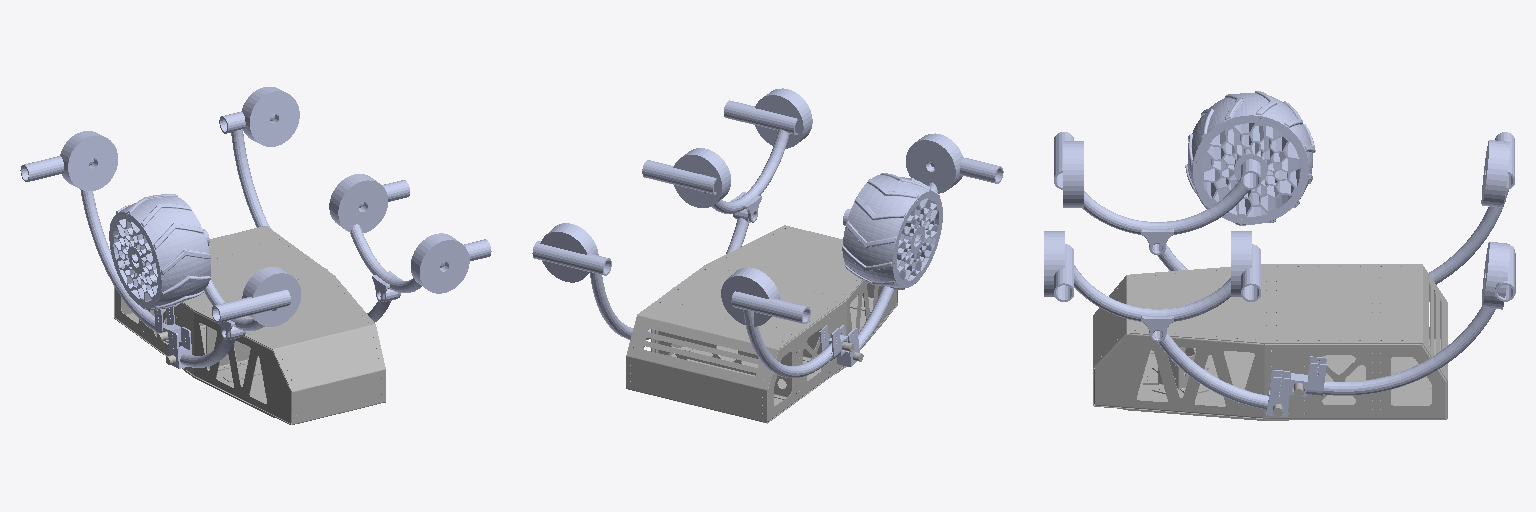
The robot description file, URDF, robot "drive":
<?xml version="1.0" encoding="utf-8"?>
<!-- This URDF was automatically created by SolidWorks to URDF Exporter! Originally created by [author] ([email redacted]) 
     Commit Version: 1.6.0-1-g15f4949  Build Version: 1.6.7594.29634
     For more information, please see http://wiki.ros.org/sw_urdf_exporter -->
<robot
  name="drive">
  <link
    name="base">
    <inertial>
      <origin
        xyz="-0.345788930637997 -0.153460943930369 -0.0148574304076997"
        rpy="0 0 0" />
      <mass
        value="34.1059688345868" />
      <inertia
        ixx="2.15746797612818"
        ixy="0.00470920534979304"
        ixz="-1.71459033522724E-06"
        iyy="0.759382756881473"
        iyz="0.00265969830513678"
        izz="2.53264735973746" />
    </inertial>
    <visual>
      <origin
        xyz="0 0 0"
        rpy="0 0 0" />
      <geometry>
        <mesh
          filename="package://drive/meshes/base.STL" />
      </geometry>
      <material
        name="">
        <color
          rgba="0.752941176470588 0.752941176470588 0.752941176470588 1" />
      </material>
    </visual>
    <collision>
      <origin
        xyz="0 0 0"
        rpy="0 0 0" />
      <geometry>
        <mesh
          filename="package://drive/meshes/base.STL" />
      </geometry>
    </collision>
  </link>
  <link
    name="right_front">
    <inertial>
      <origin
        xyz="-0.12375 -0.053132 0.0225"
        rpy="0 0 0" />
      <mass
        value="0.26897" />
      <inertia
        ixx="0.001013"
        ixy="-0.0017699"
        ixz="2.1696E-09"
        iyy="0.0042352"
        iyz="1.083E-09"
        izz="0.0051616" />
    </inertial>
    <visual>
      <origin
        xyz="0 0 0"
        rpy="0 0 0" />
      <geometry>
        <mesh
          filename="package://drive/meshes/right_front.STL" />
      </geometry>
      <material
        name="">
        <color
          rgba="0.79216 0.81961 0.93333 1" />
      </material>
    </visual>
    <collision>
      <origin
        xyz="0 0 0"
        rpy="0 0 0" />
      <geometry>
        <mesh
          filename="package://drive/meshes/right_front.STL" />
      </geometry>
    </collision>
  </link>
  <joint
    name="joint_right_front"
    type="revolute">
    <origin
      xyz="-0.070337 -0.15542 -0.062427"
      rpy="-1.5708 0.12123 1.5708" />
    <parent
      link="base" />
    <child
      link="right_front" />
    <axis
      xyz="0 0 1" />
    <limit
      effort="10"
      velocity="0"
      lower="-1.0"
      upper="1.0" />
  </joint>
  <link
    name="right_bogie">
    <inertial>
      <origin
        xyz="-4.0066E-06 -0.13053 0.016329"
        rpy="0 0 0" />
      <mass
        value="0.59393" />
      <inertia
        ixx="0.0020082"
        ixy="2.9932E-07"
        ixz="-1.3098E-08"
        iyy="0.0053136"
        iyz="3.3927E-09"
        izz="0.0045241" />
    </inertial>
    <visual>
      <origin
        xyz="0 0 0"
        rpy="0 0 0" />
      <geometry>
        <mesh
          filename="package://drive/meshes/right_bogie.STL" />
      </geometry>
      <material
        name="">
        <color
          rgba="0.79216 0.81961 0.93333 1" />
      </material>
    </visual>
    <collision>
      <origin
        xyz="0 0 0"
        rpy="0 0 0" />
      <geometry>
        <mesh
          filename="package://drive/meshes/right_bogie.STL" />
      </geometry>
    </collision>
  </link>
  <joint
    name="joint_right_bogie"
    type="revolute">
    <origin
      xyz="-0.31109 -0.16078 0"
      rpy="-3.1416 0 3.0204" />
    <parent
      link="right_front" />
    <child
      link="right_bogie" />
    <axis
      xyz="0 0 1" />
    <limit
      effort="10"
      velocity="0"
      lower="-3.14159"
      upper="3.14159"/>
  </joint>
  <link
    name="wheel_1">
    <inertial>
      <origin
        xyz="-0.08218 0.0011573 0.007099"
        rpy="0 0 0" />
      <mass
        value="32.802" />
      <inertia
        ixx="0.60349"
        ixy="-0.0034113"
        ixz="-0.020925"
        iyy="0.36113"
        iyz="0.00029621"
        izz="0.3629" />
    </inertial>
    <visual>
      <origin
        xyz="0 0 0"
        rpy="0 0 0" />
      <geometry>
        <mesh
          filename="package://drive/meshes/wheel_1.STL" />
      </geometry>
      <material
        name="">
        <color
          rgba="0.79216 0.81961 0.93333 1" />
      </material>
    </visual>
    <collision>
      <origin
        xyz="0 0 0"
        rpy="0 0 0" />
      <geometry>
        <mesh
          filename="package://drive/meshes/wheel_1.STL" />
      </geometry>
    </collision>
  </link>
  <joint
    name="joint_wheel_1"
    type="continuous">
    <origin
      xyz="0.225 -0.18509 0"
      rpy="-1.5707 1.5707 0" />
    <parent
      link="right_bogie" />
    <child
      link="wheel_1" />
    <axis
      xyz="1 0 0" />
  </joint>
  <link
    name="wheel_2">
    <inertial>
      <origin
        xyz="-0.08218 0.0011573 0.007099"
        rpy="0 0 0" />
      <mass
        value="32.802" />
      <inertia
        ixx="0.60349"
        ixy="-0.0034113"
        ixz="-0.020925"
        iyy="0.36113"
        iyz="0.00029621"
        izz="0.3629" />
    </inertial>
    <visual>
      <origin
        xyz="0 0 0"
        rpy="0 0 0" />
      <geometry>
        <mesh
          filename="package://drive/meshes/wheel_2.STL" />
      </geometry>
      <material
        name="">
        <color
          rgba="0.79216 0.81961 0.93333 1" />
      </material>
    </visual>
    <collision>
      <origin
        xyz="0 0 0"
        rpy="0 0 0" />
      <geometry>
        <mesh
          filename="package://drive/meshes/wheel_2.STL" />
      </geometry>
    </collision>
  </link>
  <joint
    name="joint_wheel_2"
    type="continuous">
    <origin
      xyz="-0.225 -0.18509 0"
      rpy="-1.5707 1.5707 0" />
    <parent
      link="right_bogie" />
    <child
      link="wheel_2" />
    <axis
      xyz="1 0 0" />
  </joint>
  <link
    name="right_back">
    <inertial>
      <origin
        xyz="0.30742 -0.20016 0.070431"
        rpy="0 0 0" />
      <mass
        value="0.46295" />
      <inertia
        ixx="0.0037369"
        ixy="0.0028292"
        ixz="2.8411E-09"
        iyy="0.0040089"
        iyz="-4.7273E-09"
        izz="0.0063232" />
    </inertial>
    <visual>
      <origin
        xyz="0 0 0"
        rpy="0 0 0" />
      <geometry>
        <mesh
          filename="package://drive/meshes/right_back.STL" />
      </geometry>
      <material
        name="">
        <color
          rgba="0.79216 0.81961 0.93333 1" />
      </material>
    </visual>
    <collision>
      <origin
        xyz="0 0 0"
        rpy="0 0 0" />
      <geometry>
        <mesh
          filename="package://drive/meshes/right_back.STL" />
      </geometry>
    </collision>
  </link>
  <joint
    name="joint_right_back"
    type="revolute">
    <origin
      xyz="0 -0.10542 -0.012427"
      rpy="-1.5708 0.12123 1.5708" />
    <parent
      link="base" />
    <child
      link="right_back" />
    <axis
      xyz="0 0 1" />
    <limit
      effort="10"
      velocity="0"
      lower="-1.0"
      upper="1.0" />
  </joint>
  <link
    name="wheel_3">
    <inertial>
      <origin
        xyz="-0.0096197 0.00013586 0.00083348"
        rpy="0 0 0" />
      <mass
        value="32.802" />
      <inertia
        ixx="0.60349"
        ixy="-0.0034113"
        ixz="-0.020925"
        iyy="0.36113"
        iyz="0.0002962"
        izz="0.3629" />
    </inertial>
    <visual>
      <origin
        xyz="0 0 0"
        rpy="0 0 0" />
      <geometry>
        <mesh
          filename="package://drive/meshes/wheel_3.STL" />
      </geometry>
      <material
        name="">
        <color
          rgba="0.79216 0.81961 0.93333 1" />
      </material>
    </visual>
    <collision>
      <origin
        xyz="0 0 0"
        rpy="0 0 0" />
      <geometry>
        <mesh
          filename="package://drive/meshes/wheel_3.STL" />
      </geometry>
    </collision>
  </link>
  <joint
    name="joint_wheel_3"
    type="continuous">
    <origin
      xyz="0.45337 -0.39 0"
      rpy="-1.5707 1.5707 0" />
    <parent
      link="right_back" />
    <child
      link="wheel_3" />
    <axis
      xyz="1 0 0" />
  </joint>
  <link
    name="left_front">
    <inertial>
      <origin
        xyz="-0.12375 -0.053132 0.0225"
        rpy="0 0 0" />
      <mass
        value="0.26897" />
      <inertia
        ixx="0.001013"
        ixy="-0.0017699"
        ixz="2.1696E-09"
        iyy="0.0042352"
        iyz="1.083E-09"
        izz="0.0051616" />
    </inertial>
    <visual>1.5707 0 0
      <origin
        xyz="0 0 0"
        rpy="0 0 0" />
      <geometry>
        <mesh
          filename="package://drive/meshes/left_front.STL" />
      </geometry>
      <material
        name="">
        <color
          rgba="0.79216 0.81961 0.93333 1" />
      </material>
    </visual>
    <collision>
      <origin
        xyz="0 0 0"
        rpy="0 0 0" />
      <geometry>
        <mesh
          filename="package://drive/meshes/left_front.STL" />
      </geometry>
    </collision>
  </link>
  <joint
    name="joint_left_front"
    type="revolute">
    <origin
      xyz="-0.56534 -0.15578 -0.062427"
      rpy="-1.5708 0.12123 1.5708" />
    <parent
      link="base" />
    <child
      link="left_front" />
    <axis
      xyz="0 0 1" />
    <limit
      effort="10"
      velocity="0"
      lower="-1.0"
      upper="1.0" />
  </joint>
  <link
    name="left_bogie">
    <inertial>
      <origin
        xyz="-4.009E-06 -0.13053 0.061329"
        rpy="0 0 0" />
      <mass
        value="0.59393" />
      <inertia
        ixx="0.0020082"
        ixy="2.9938E-07"
        ixz="-1.3098E-08"
        iyy="0.0053136"
        iyz="3.3927E-09"
        izz="0.0045241" />
    </inertial>
    <visual>
      <origin
        xyz="0 0 0"
        rpy="0 0 0" />
      <geometry>
        <mesh
          filename="package://drive/meshes/left_bogie.STL" />
      </geometry>
      <material
        name="">
        <color
          rgba="0.79216 0.81961 0.93333 1" />
      </material>
    </visual>
    <collision>
      <origin
        xyz="0 0 0"
        rpy="0 0 0" />
      <geometry>
        <mesh
          filename="package://drive/meshes/left_bogie.STL" />
      </geometry>
    </collision>
  </link>
  <joint
    name="joint_left_bogie"
    type="revolute">
    <origin
      xyz="-0.31109 -0.16078 0"
      rpy="0 0 -0.12123" />
    <parent
      link="left_front" />
    <child
      link="left_bogie" />
    <axis
      xyz="0 0 1" />
    <limit
      effort="10"
      velocity="0"
      lower="-3.14159"
      upper="3.14159" />
  </joint>
  <link
    name="wheel_4">
    <inertial>
      <origin
        xyz="-0.1102 0.0015518 0.0095182"
        rpy="0 0 0" />
      <mass
        value="32.802" />
      <inertia
        ixx="0.60349"
        ixy="-0.0034113"
        ixz="-0.020925"
        iyy="0.36113"
        iyz="0.0002962"
        izz="0.3629" />
    </inertial>
    <visual>
      <origin
        xyz="0 0 0"
        rpy="0 0 0" />
      <geometry>
        <mesh
          filename="package://drive/meshes/wheel_4.STL" />
      </geometry>
      <material
        name="">
        <color
          rgba="0.79216 0.81961 0.93333 1" />
      </material>
    </visual>
    <collision>
      <origin
        xyz="0 0 0"
        rpy="0 0 0" />
      <geometry>
        <mesh
          filename="package://drive/meshes/wheel_4.STL" />
      </geometry>
    </collision>
  </link>
  <joint
    name="joint_wheel_4"
    type="continuous">
    <origin
      xyz="-0.225 -0.18509 0.016876"
      rpy="-1.5707 1.5707 0" />
    <parent
      link="left_bogie" />
    <child
      link="wheel_4" />
    <axis
      xyz="1 0 0" />
  </joint>
  <link
    name="wheel_5">
    <inertial>
      <origin
        xyz="-0.1102 0.0015518 0.0095182"
        rpy="0 0 0" />
      <mass
        value="32.802" />
      <inertia
        ixx="0.60349"
        ixy="-0.0034113"
        ixz="-0.020925"
        iyy="0.36113"
        iyz="0.00029621"
        izz="0.3629" />
    </inertial>
    <visual>
      <origin
        xyz="0 0 0"
        rpy="0 0 0" />
      <geometry>
        <mesh
          filename="package://drive/meshes/wheel_5.STL" />
      </geometry>
      <material
        name="">
        <color
          rgba="0.79216 0.81961 0.93333 1" />
      </material>
    </visual>
    <collision>
      <origin
        xyz="0 0 0"
        rpy="0 0 0" />
      <geometry>
        <mesh
          filename="package://drive/meshes/wheel_5.STL" />
      </geometry>
    </collision>
  </link>
  <joint
    name="joint_wheel_5"
    type="continuous">
    <origin
      xyz="0.225 -0.18509 0.016876"
      rpy="-1.5707 1.5707 0" />
    <parent
      link="left_bogie" />
    <child
      link="wheel_5" />
    <axis
      xyz="1 0 0" />
  </joint>
  <link
    name="left_back">
    <inertial>
      <origin
        xyz="0.307417610449746 -0.200159784838589 0.0649065740190656"
        rpy="0 0 0" />
      <mass
        value="0.462954112817127" />
      <inertia
        ixx="0.00373689017269687"
        ixy="0.00282920501842546"
        ixz="2.84105774800552E-09"
        iyy="0.00400887791416429"
        iyz="-4.72732351366836E-09"
        izz="0.00632322267910215" />
    </inertial>
    <visual>
      <origin
        xyz="0 0 0"
        rpy="0 0 0" />
      <geometry>
        <mesh
          filename="package://drive/meshes/left_back.STL" />
      </geometry>
      <material
        name="">
        <color
          rgba="0.792156862745098 0.819607843137255 0.933333333333333 1" />
      </material>
    </visual>
    <collision>
      <origin
        xyz="0 0 0"
        rpy="0 0 0" />
      <geometry>
        <mesh
          filename="package://drive/meshes/left_back.STL" />
      </geometry>
    </collision>
  </link>
  <joint
    name="joint_left_back"
    type="revolute">
    <origin
      xyz="-0.54534 -0.10578 -0.012427"
      rpy="-1.5708 0.12123 1.5708" />
    <parent
      link="base" />
    <child
      link="left_back" />
    <axis
      xyz="0 0 1" />
    <limit
      effort="10"
      velocity="0"
      lower="-1.0"
      upper="1.0" />
  </joint>
  <link
    name="wheel_6">
    <inertial>
      <origin
        xyz="-0.110196647547582 0.0015517611086607 0.00951816460722743"
        rpy="0 0 0" />
      <mass
        value="32.8019150211691" />
      <inertia
        ixx="0.603492451808882"
        ixy="-0.0034112585032357"
        ixz="-0.0209247366705797"
        iyy="0.361131034411668"
        iyz="0.000296199081101525"
        izz="0.362901341391592" />
    </inertial>
    <visual>
      <origin
        xyz="0 0 0"
        rpy="0 0 0" />
      <geometry>
        <mesh
          filename="package://drive/meshes/wheel_6.STL" />
      </geometry>
      <material
        name="">
        <color
          rgba="0.792156862745098 0.819607843137255 0.933333333333333 1" />
      </material>
    </visual>
    <collision>
      <origin
        xyz="0 0 0"
        rpy="0 0 0" />
      <geometry>
        <mesh
          filename="package://drive/meshes/wheel_6.STL" />
      </geometry>
    </collision>
  </link>
  <joint
    name="joint_wheel_6"
    type="continuous">
    <origin
      xyz="0.45337 -0.39 0.034376"
      rpy="-1.5707 1.5707 0" />
    <parent
      link="left_back" />
    <child
      link="wheel_6" />
    <axis
      xyz="1 0 0" />
  </joint>

  <!-- Gazebo properties for wheel friction -->
  <gazebo reference="wheel_1">
    <mu1>0.8</mu1>
    <mu2>0.8</mu2>
    <material>Gazebo/Black</material>
  </gazebo>
  <gazebo reference="wheel_2">
    <mu1>0.8</mu1>
    <mu2>0.8</mu2>
    <material>Gazebo/Black</material>
  </gazebo>
  <gazebo reference="wheel_3">
    <mu1>0.8</mu1>
    <mu2>0.8</mu2>
    <material>Gazebo/Black</material>
  </gazebo>
  <gazebo reference="wheel_4">
    <mu1>0.8</mu1>
    <mu2>0.8</mu2>
    <material>Gazebo/Black</material>
  </gazebo>
  <gazebo reference="wheel_5">
    <mu1>0.8</mu1>
    <mu2>0.8</mu2>
    <material>Gazebo/Black</material>
  </gazebo>
  <gazebo reference="wheel_6">
    <mu1>0.8</mu1>
    <mu2>0.8</mu2>
    <material>Gazebo/Black</material>
  </gazebo>

  <!-- Gazebo joint properties for better simulation -->
  <gazebo reference="joint_wheel_1">
    <implicitSpringDamper>true</implicitSpringDamper>
  </gazebo>
  <gazebo reference="joint_wheel_2">
    <implicitSpringDamper>true</implicitSpringDamper>
  </gazebo>
  <gazebo reference="joint_wheel_3">
    <implicitSpringDamper>true</implicitSpringDamper>
  </gazebo>
  <gazebo reference="joint_wheel_4">
    <implicitSpringDamper>true</implicitSpringDamper>
  </gazebo>
  <gazebo reference="joint_wheel_5">
    <implicitSpringDamper>true</implicitSpringDamper>
  </gazebo>
  <gazebo reference="joint_wheel_6">
    <implicitSpringDamper>true</implicitSpringDamper>
  </gazebo>

  <ros2_control name="RoverHardware" type="system">
    <hardware>
      <plugin>ign_ros2_control/IgnitionSystem</plugin>
    </hardware>
    <joint name="joint_right_front">
      <command_interface name="position">
        <param name="min">-1.0</param>
        <param name="max">1.0</param>
      </command_interface>
      <state_interface name="position"/>
      <state_interface name="velocity"/>
    </joint>
    <joint name="joint_right_back">
      <command_interface name="position">
        <param name="min">-1.0</param>
        <param name="max">1.0</param>
      </command_interface>
      <state_interface name="position"/>
      <state_interface name="velocity"/>
    </joint>
    <joint name="joint_left_front">
      <command_interface name="position">
        <param name="min">-1.0</param>
        <param name="max">1.0</param>
      </command_interface>
      <state_interface name="position"/>
      <state_interface name="velocity"/>
    </joint>
    <joint name="joint_left_back">
      <command_interface name="position">
        <param name="min">-1.0</param>
        <param name="max">1.0</param>
      </command_interface>
      <state_interface name="position"/>
      <state_interface name="velocity"/>
    </joint>
    <joint name="joint_wheel_1">
      <command_interface name="velocity"/>
      <state_interface name="position"/>
      <state_interface name="velocity"/>
    </joint>
    <joint name="joint_wheel_2">
      <command_interface name="velocity"/>
      <state_interface name="position"/>
      <state_interface name="velocity"/>
    </joint>
    <joint name="joint_wheel_3">
      <command_interface name="velocity"/>
      <state_interface name="position"/>
      <state_interface name="velocity"/>
    </joint>
    <joint name="joint_wheel_4">
      <command_interface name="velocity"/>
      <state_interface name="position"/>
      <state_interface name="velocity"/>
    </joint>
    <joint name="joint_wheel_5">
      <command_interface name="velocity"/>
      <state_interface name="position"/>
      <state_interface name="velocity"/>
    </joint>
    <joint name="joint_wheel_6">
      <command_interface name="velocity"/>
      <state_interface name="position"/>
      <state_interface name="velocity"/>
    </joint>
  </ros2_control>

  <!-- Gazebo plugin for ros2_control -->
  <gazebo>
    <plugin filename="ign_ros2_control-system" name="ign_ros2_control::IgnitionROS2ControlPlugin">
      <parameters>[local-path]/nav2_ws/src/drive/models/drive/config/rover_controllers.yaml</parameters>
      <ros>
        <remapping>/clock:=/clock</remapping>
      </ros>
    </plugin>
  </gazebo>

</robot>

--- Facts derived from the render (not from the file) ---
The picture shows the robot from 3 angles, left to right: view 1: azimuth 30°, elevation 25°; view 2: azimuth 150°, elevation 25°; view 3: azimuth 270°, elevation 25°; orthographic projection.
Robot: drive — 13 links, 12 joints (6 revolute, 6 continuous); root link base; default pose: every joint at zero.
Visible links, largest first — view 1: base, wheel_5, left_back, wheel_1, wheel_3, wheel_6, wheel_2, right_bogie, left_bogie, wheel_4, right_back, left_front; view 2: base, wheel_5, right_bogie, left_back, wheel_4, right_back, wheel_2, wheel_1, wheel_6, wheel_3, left_front, left_bogie; view 3: base, wheel_5, right_bogie, right_back, left_bogie, right_front, left_back, wheel_6, wheel_3, wheel_4, wheel_1, wheel_2.
Link boxes in pixels (x1=…): base: x1=114, y1=226, x2=385, y2=424; wheel_5: x1=109, y1=194, x2=210, y2=309; left_back: x1=20, y1=156, x2=181, y2=342; wheel_1: x1=411, y1=233, x2=469, y2=293; wheel_3: x1=242, y1=87, x2=299, y2=146; wheel_6: x1=60, y1=131, x2=117, y2=190; wheel_2: x1=329, y1=174, x2=387, y2=232; right_bogie: x1=350, y1=180, x2=491, y2=301; left_bogie: x1=131, y1=229, x2=290, y2=339; wheel_4: x1=242, y1=267, x2=300, y2=326; right_back: x1=219, y1=111, x2=327, y2=269; left_front: x1=168, y1=326, x2=243, y2=368; base: x1=626, y1=225, x2=897, y2=423; wheel_5: x1=842, y1=173, x2=942, y2=289; right_bogie: x1=642, y1=100, x2=797, y2=222; left_back: x1=731, y1=291, x2=847, y2=377; wheel_4: x1=906, y1=133, x2=962, y2=193; right_back: x1=532, y1=241, x2=673, y2=339; wheel_2: x1=673, y1=148, x2=730, y2=207; wheel_1: x1=755, y1=88, x2=812, y2=148; wheel_6: x1=721, y1=267, x2=779, y2=326; wheel_3: x1=540, y1=223, x2=598, y2=282; left_front: x1=837, y1=286, x2=894, y2=366; left_bogie: x1=843, y1=157, x2=1003, y2=243; base: x1=1093, y1=264, x2=1447, y2=420; wheel_5: x1=1185, y1=91, x2=1315, y2=225; right_bogie: x1=1054, y1=244, x2=1260, y2=341; right_back: x1=1290, y1=245, x2=1515, y2=396; left_bogie: x1=1054, y1=132, x2=1260, y2=254; right_front: x1=1149, y1=331, x2=1290, y2=416; left_back: x1=1429, y1=132, x2=1514, y2=284; wheel_6: x1=1481, y1=140, x2=1509, y2=207; wheel_3: x1=1482, y1=242, x2=1509, y2=309; wheel_4: x1=1063, y1=141, x2=1083, y2=207; wheel_1: x1=1044, y1=231, x2=1064, y2=296; wheel_2: x1=1231, y1=231, x2=1251, y2=296.
Size in the robot's own frame: 0.8766 by 1.13 by 0.5971 metres.
Meshes: 13 distinct files referenced, 13 mesh visuals loaded (13 binary STL).
